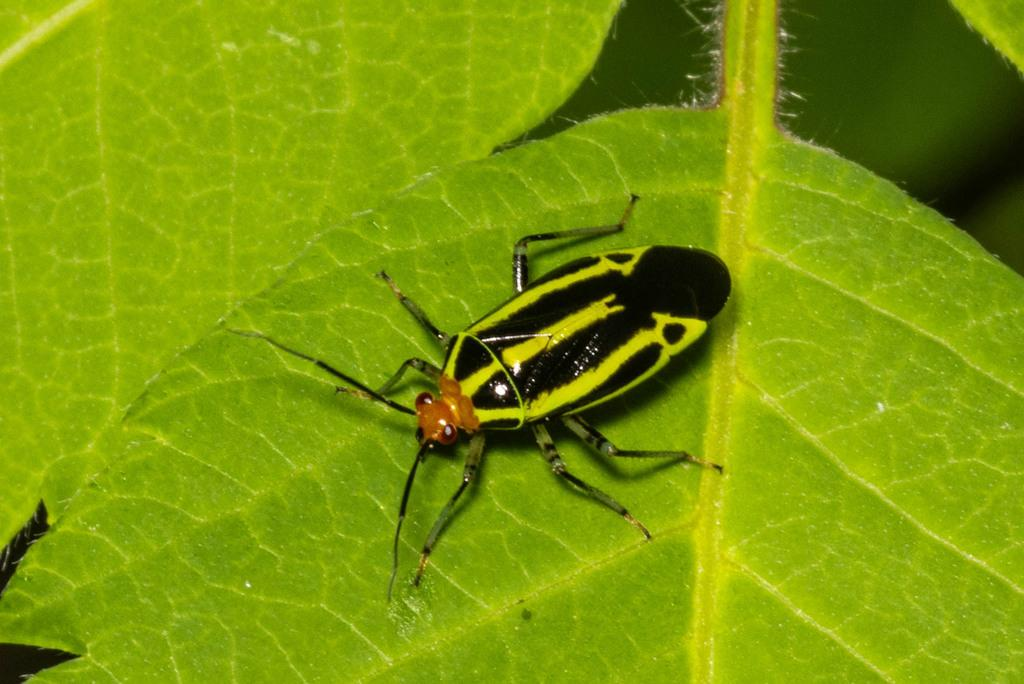plant_bugs: (219, 171, 803, 624)
